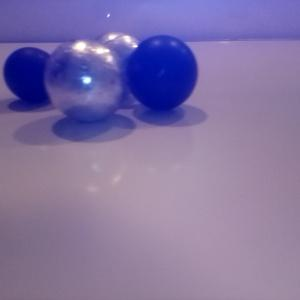alive_ball: (43, 39, 127, 123), (83, 31, 148, 100)
dead_ball: (127, 35, 198, 110), (2, 45, 56, 101)
